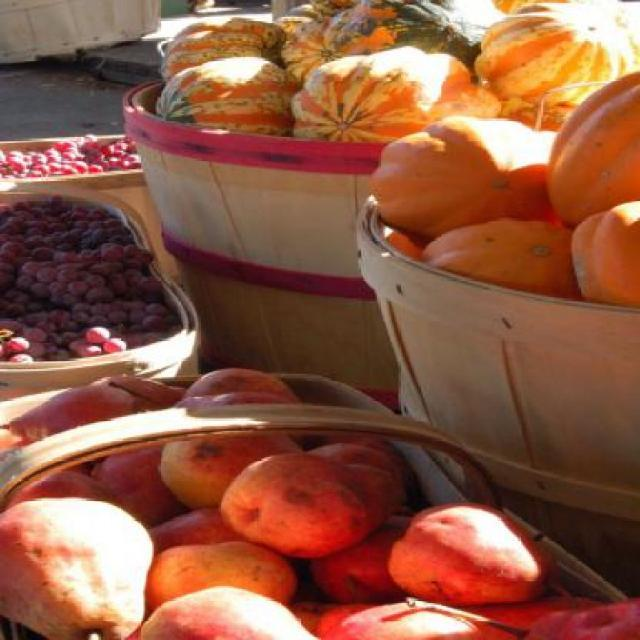Apple pie: (216, 454, 392, 566)
